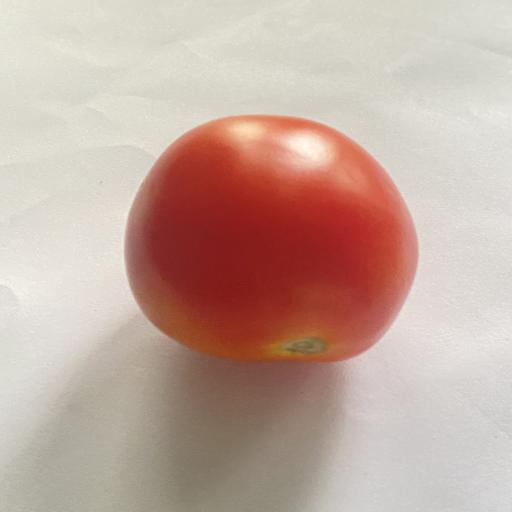ripe: (125, 115, 418, 362)
